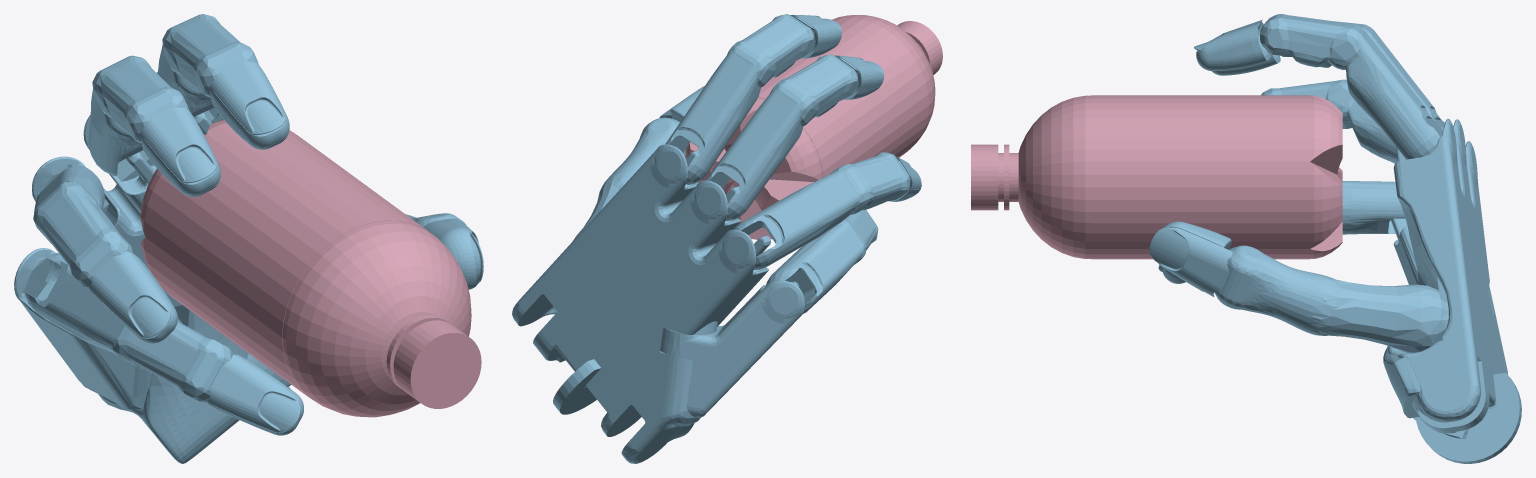
3 views of the same model, side by side, from view 1: azimuth 30°, elevation 25°; view 2: azimuth 150°, elevation 25°; view 3: azimuth 270°, elevation 25° (orthographic). The views are drawn at different scales.
Visible parts, largest first — view 1: world, water_bottle.stl; view 2: world, water_bottle.stl; view 3: world, water_bottle.stl.
Part boxes in pixels (x1,y1,x2,y2): world: [14, 14, 483, 463]; water_bottle.stl: [140, 120, 481, 417]; world: [512, 14, 921, 463]; water_bottle.stl: [685, 15, 942, 239]; world: [1149, 14, 1521, 463]; water_bottle.stl: [971, 95, 1342, 259].
Bounding box in the file's own units: 0.1389 × 0.1672 × 0.2023.
